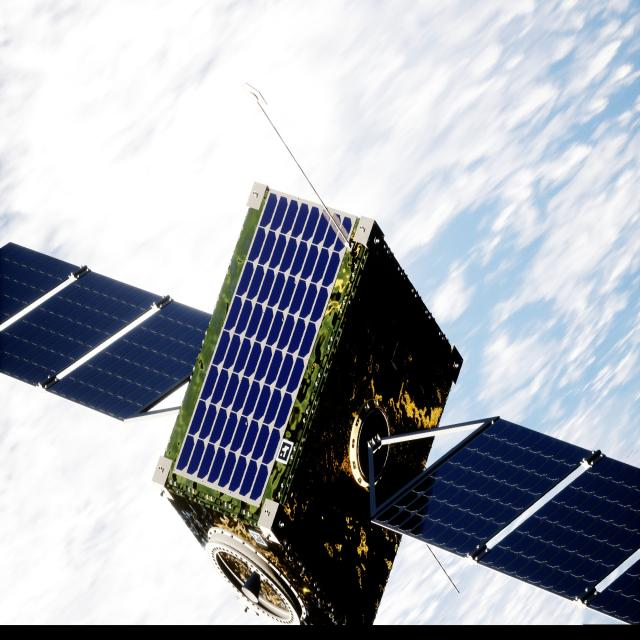medium_debris: (0, 182, 640, 627)
